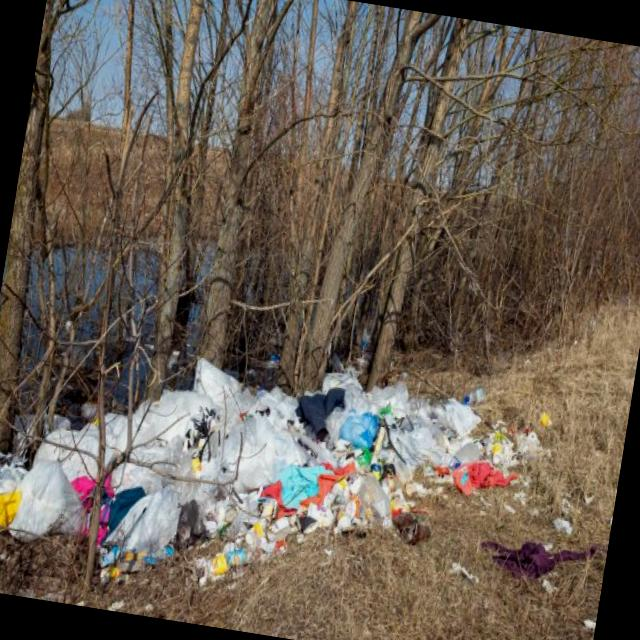garbage: (0, 298, 530, 628)
